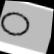no answer: (0, 4, 37, 44)
